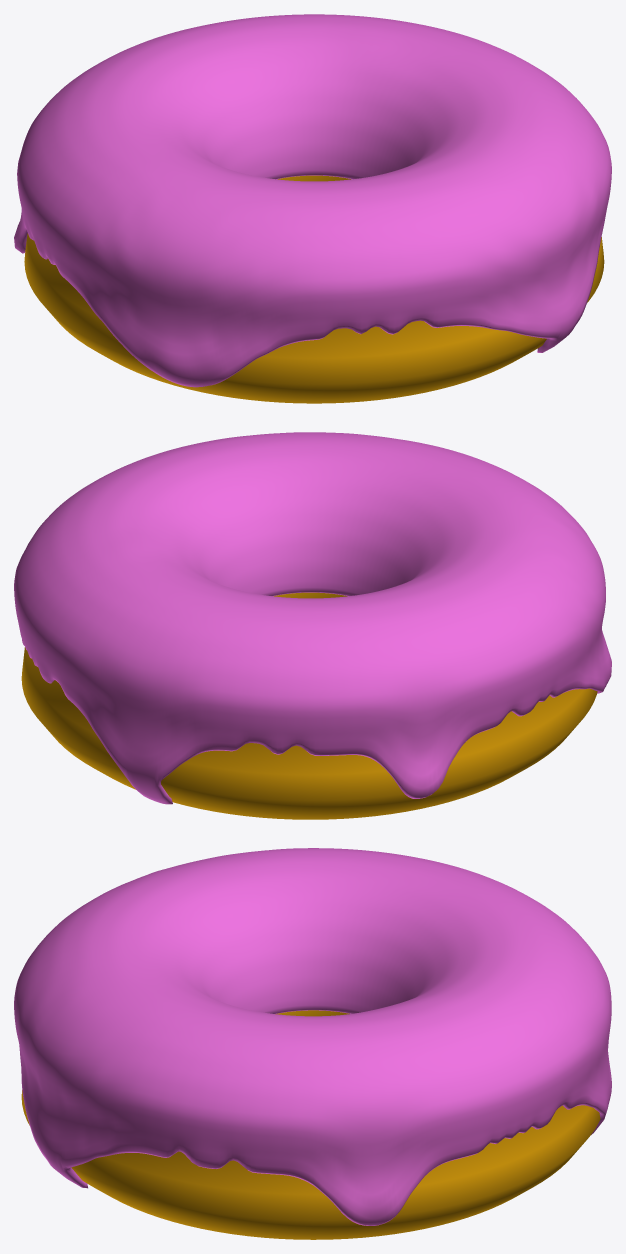
Rendered from donut.glb.
3 renders of one model, top to bottom at view 1: azimuth 30°, elevation 25°; view 2: azimuth 150°, elevation 25°; view 3: azimuth 270°, elevation 25°, orthographic.
Visible parts, largest first — view 1: Icing, Donut; view 2: Icing, Donut; view 3: Icing, Donut.
Boxes of the visible parts, x1,y1,x2,y2 form: Icing: (14,14,611,387); Donut: (24,175,604,403); Icing: (14,432,611,804); Donut: (21,592,597,819); Icing: (14,848,611,1225); Donut: (21,1010,600,1239).
Bounding box in the file's own units: 0.1012 × 0.038 × 0.1011.
